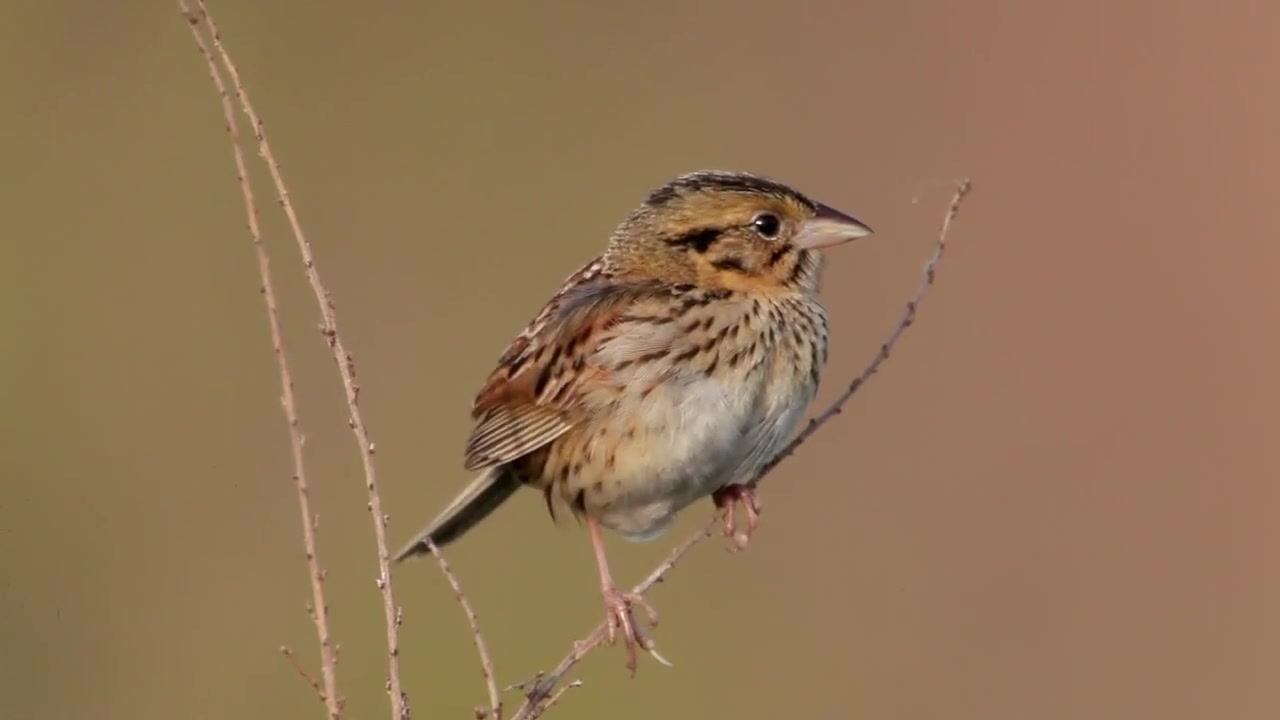bird: (394, 159, 874, 675)
